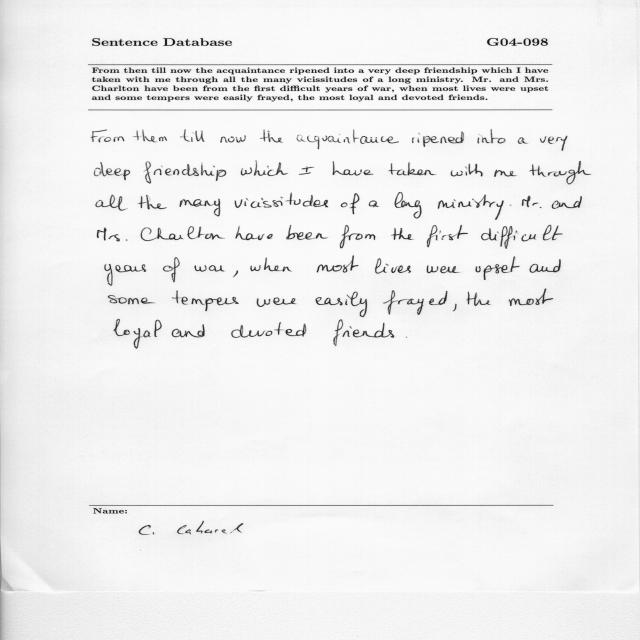word: (481, 225, 563, 249), (297, 130, 399, 149), (144, 162, 226, 184), (438, 195, 504, 220), (383, 290, 447, 315), (114, 319, 162, 349), (235, 193, 329, 208), (530, 161, 591, 184), (172, 291, 239, 311), (316, 292, 367, 317), (141, 226, 223, 241), (232, 322, 307, 338), (475, 256, 520, 280), (427, 226, 468, 248), (105, 264, 146, 286), (340, 225, 376, 249), (412, 131, 464, 147), (509, 289, 553, 306), (317, 256, 359, 273), (241, 161, 288, 176), (395, 193, 422, 219), (180, 199, 221, 216), (94, 162, 130, 180), (286, 225, 328, 240), (333, 161, 374, 176), (353, 323, 394, 338), (389, 163, 436, 176), (250, 258, 292, 272), (375, 258, 411, 274), (333, 319, 352, 346), (235, 227, 273, 240), (96, 195, 126, 211), (108, 295, 155, 305), (91, 130, 125, 143), (133, 130, 167, 143), (530, 259, 561, 273), (172, 325, 205, 338), (163, 257, 180, 282), (478, 129, 506, 144), (98, 228, 128, 242), (451, 164, 483, 177), (138, 195, 167, 209), (540, 136, 567, 151), (552, 196, 582, 209), (257, 297, 296, 307), (341, 193, 359, 214), (466, 292, 491, 306), (180, 129, 205, 142), (260, 130, 282, 143), (392, 228, 414, 240), (427, 265, 459, 273), (220, 135, 246, 143), (194, 265, 225, 271), (494, 170, 516, 177), (299, 166, 314, 175), (522, 196, 531, 207), (518, 137, 528, 144), (369, 201, 379, 208), (532, 203, 542, 208), (233, 271, 238, 278), (453, 304, 457, 311)
